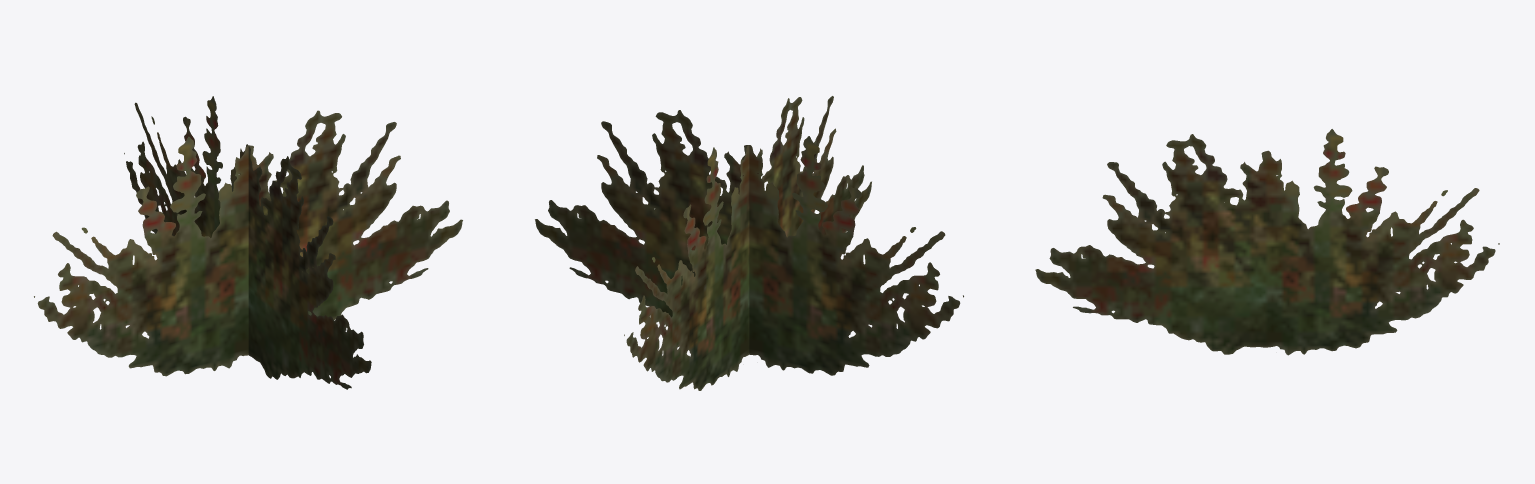
Rendered from shrb_arid_green_flowering_a2_l1.fbx.
The picture shows the model from 3 angles, left to right: view 1: azimuth 30°, elevation 25°; view 2: azimuth 150°, elevation 25°; view 3: azimuth 270°, elevation 25°; orthographic projection. The views are drawn at different scales.
Visible parts, largest first — view 1: mesh_node; view 2: mesh_node; view 3: mesh_node.
Boxes of the visible parts, box(x1,y1,x2,y2) form: mesh_node: box(34, 96, 462, 389); mesh_node: box(535, 96, 963, 390); mesh_node: box(1035, 129, 1499, 355).
Bounding box in the file's own units: 1.81 × 0.9447 × 1.81.
Materials: 1 (1 with a texture image).
